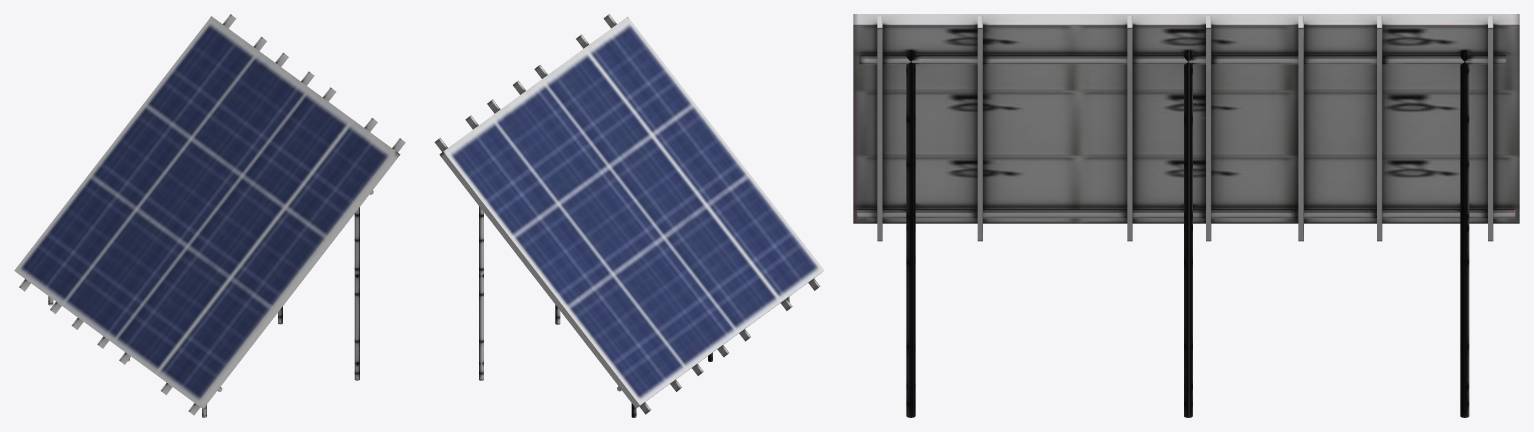
Rendered from big-solar-pannel.glb.
3 views of the same model, side by side, from view 1: azimuth 30°, elevation 25°; view 2: azimuth 150°, elevation 25°; view 3: azimuth 270°, elevation 25° (orthographic). The views are drawn at different scales.
Parts seen in each view (by area): view 1: SolarPannels_Material #0_0; view 2: SolarPannels_Material #0_0; view 3: SolarPannels_Material #0_0.
Part boxes in pixels (bbox=[...]): SolarPannels_Material #0_0: bbox=[14, 14, 405, 417]; SolarPannels_Material #0_0: bbox=[434, 14, 824, 417]; SolarPannels_Material #0_0: bbox=[853, 14, 1519, 417].
Bounding box in the file's own units: 7.57 × 8 × 11.23.
Materials: 1 (1 with a texture image).
